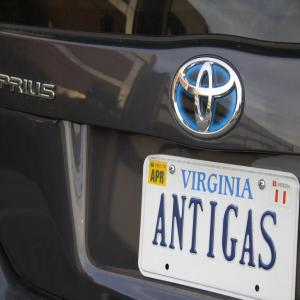Vehicle-registration-plate: (138, 156, 300, 300)
